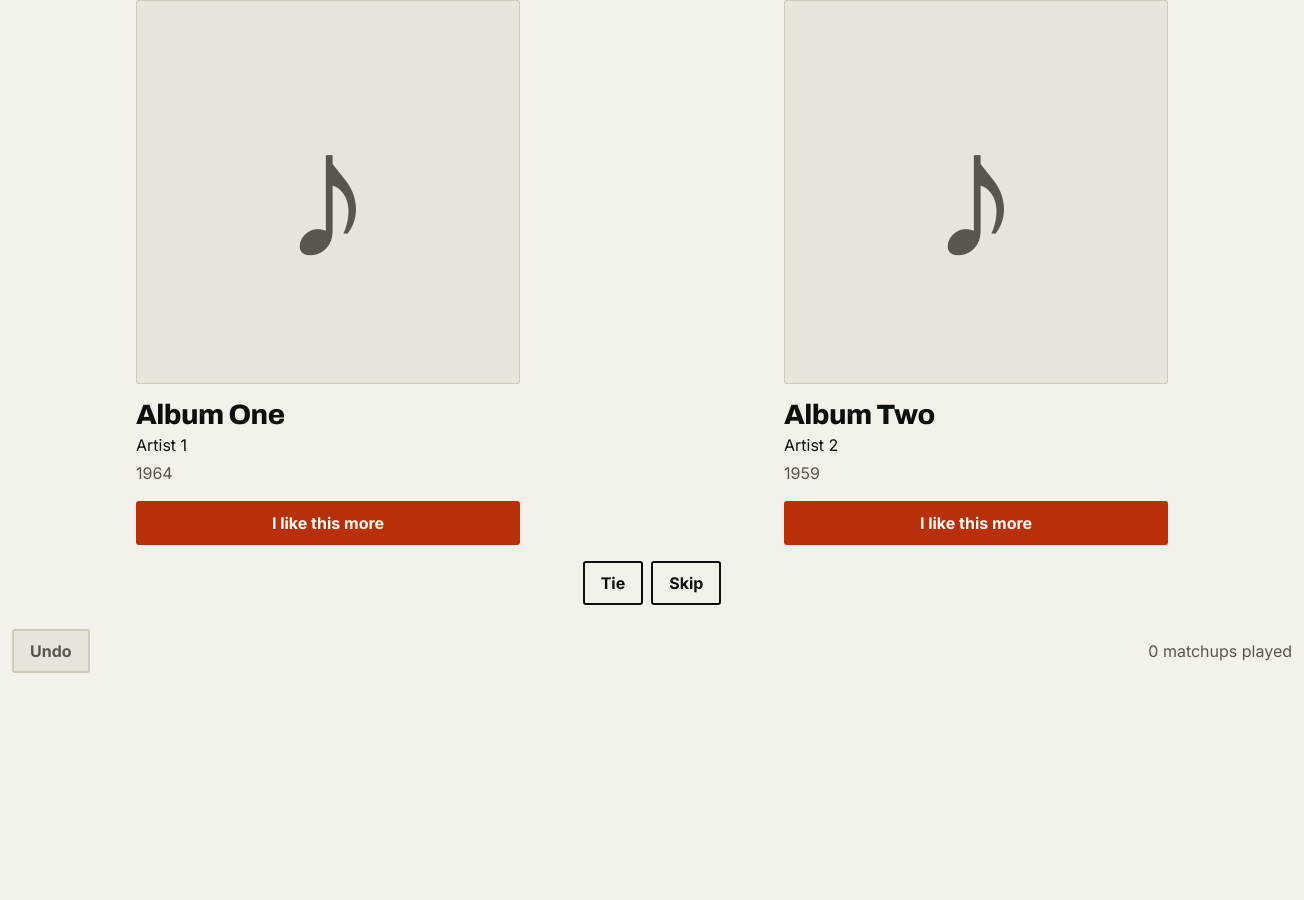
Test: matchup screen › covers › prefetches the upcoming covers of the first view and of each new view, once each
What coordinates should you click on to do the following:
click the button "Tie"
I would click on:
 (613, 583)
Its box is [583, 561, 643, 605].
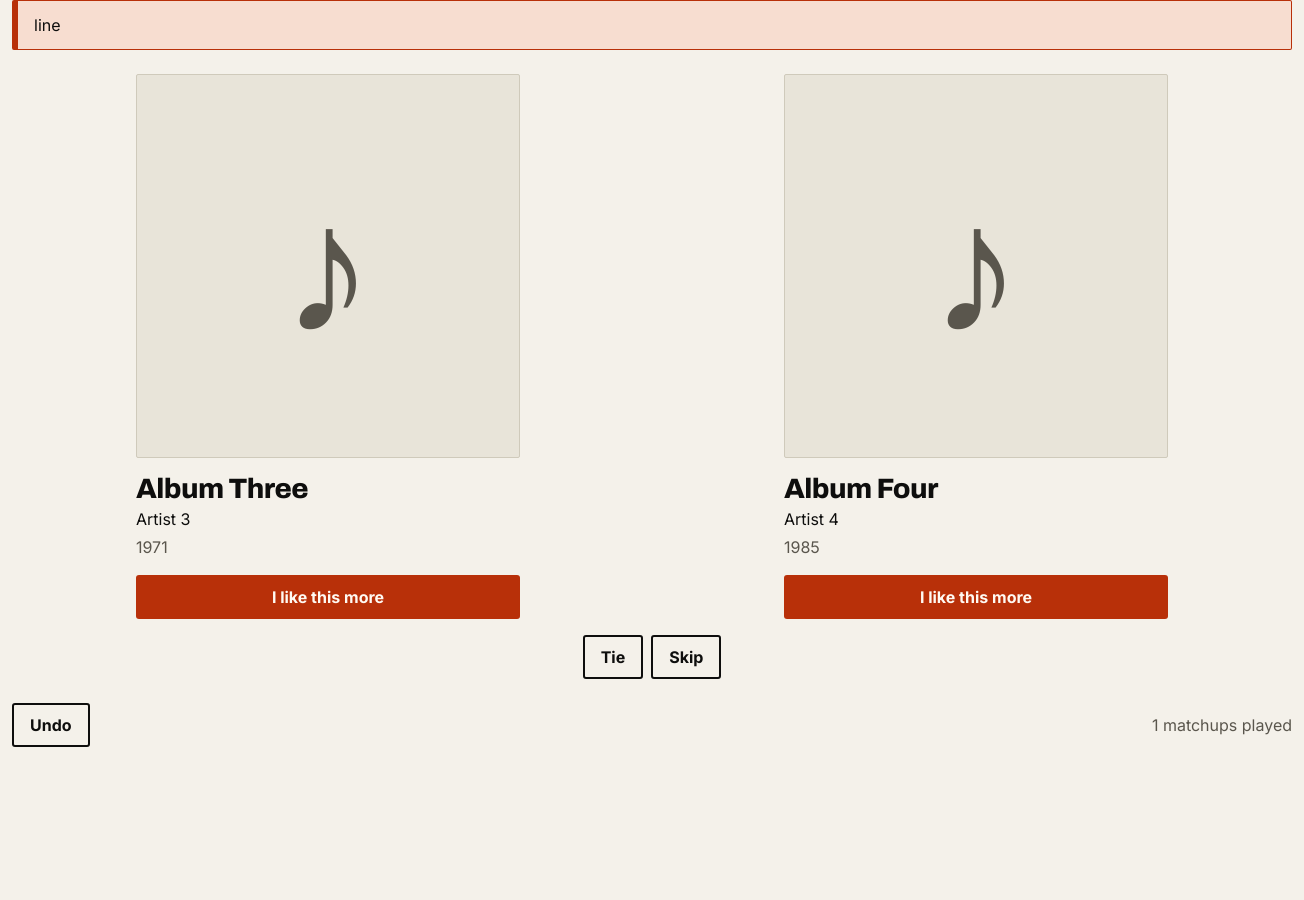
Expected: the text "Album Three" is shown, [136, 473, 308, 504]
